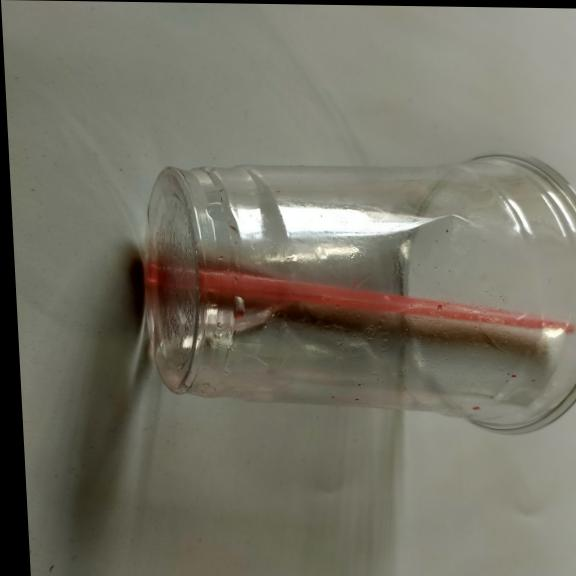Plastik: (133, 152, 575, 433)
